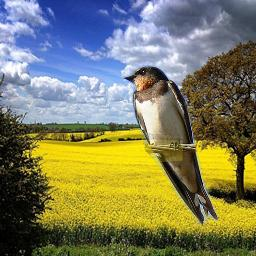Swallow: (122, 65, 218, 225)
